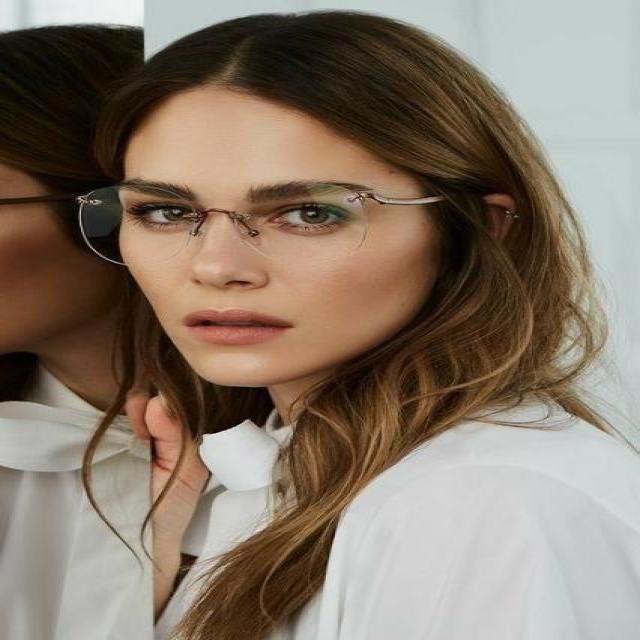glasses: (77, 182, 401, 264)
